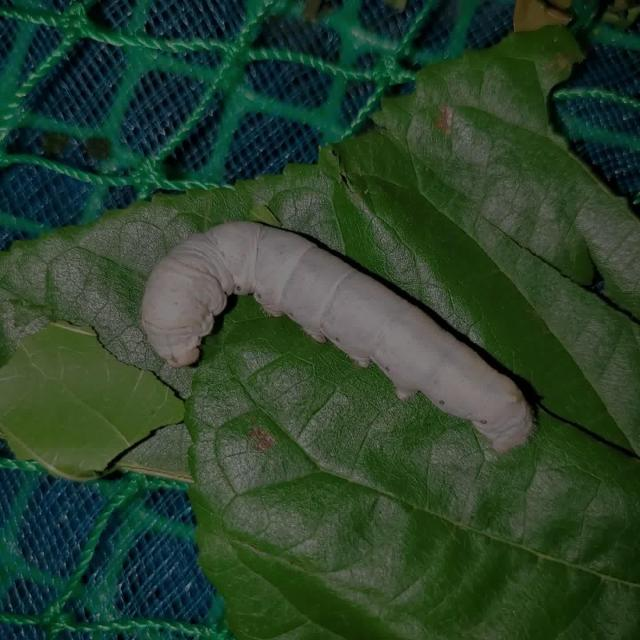Healthy: (111, 196, 559, 500)
